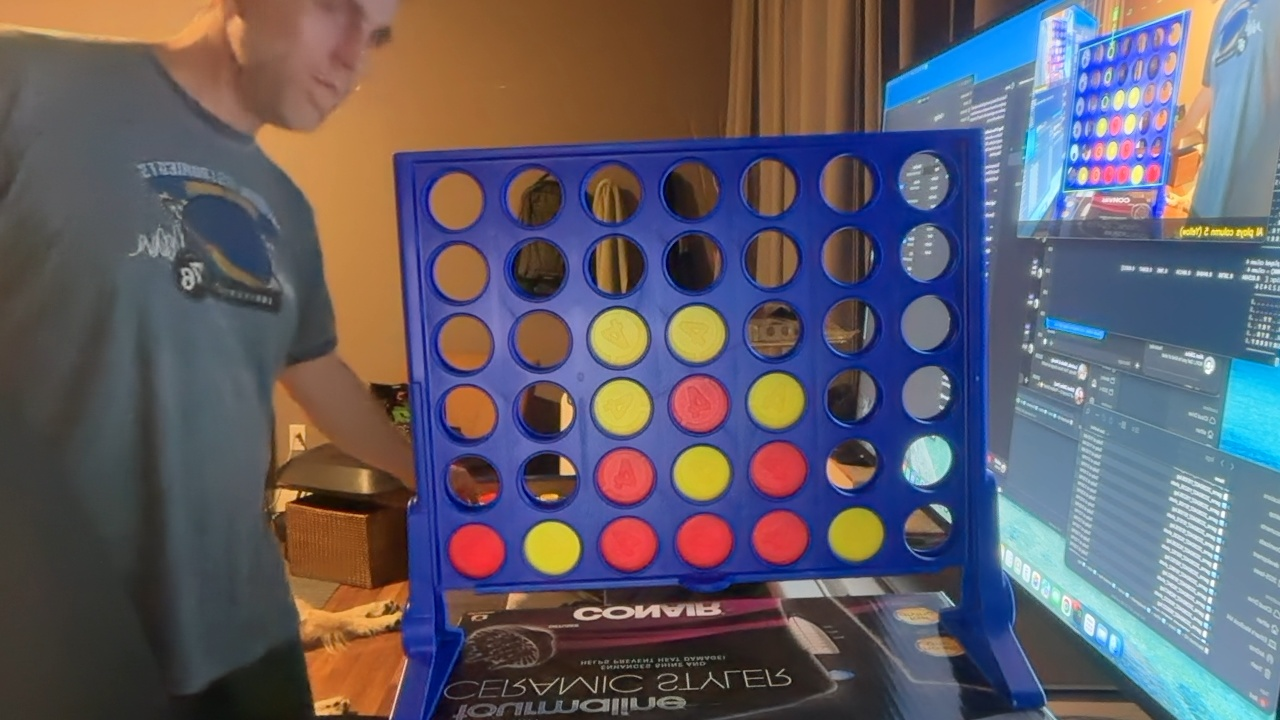red piece: (670, 375, 729, 433), (596, 448, 655, 505), (749, 441, 807, 498), (600, 517, 657, 572), (752, 510, 809, 565), (448, 524, 505, 579), (676, 514, 733, 568)
yellow piece: (588, 308, 649, 367), (592, 378, 652, 437), (667, 305, 726, 363), (747, 372, 805, 430), (673, 445, 731, 501), (524, 521, 581, 575), (828, 508, 884, 562)
